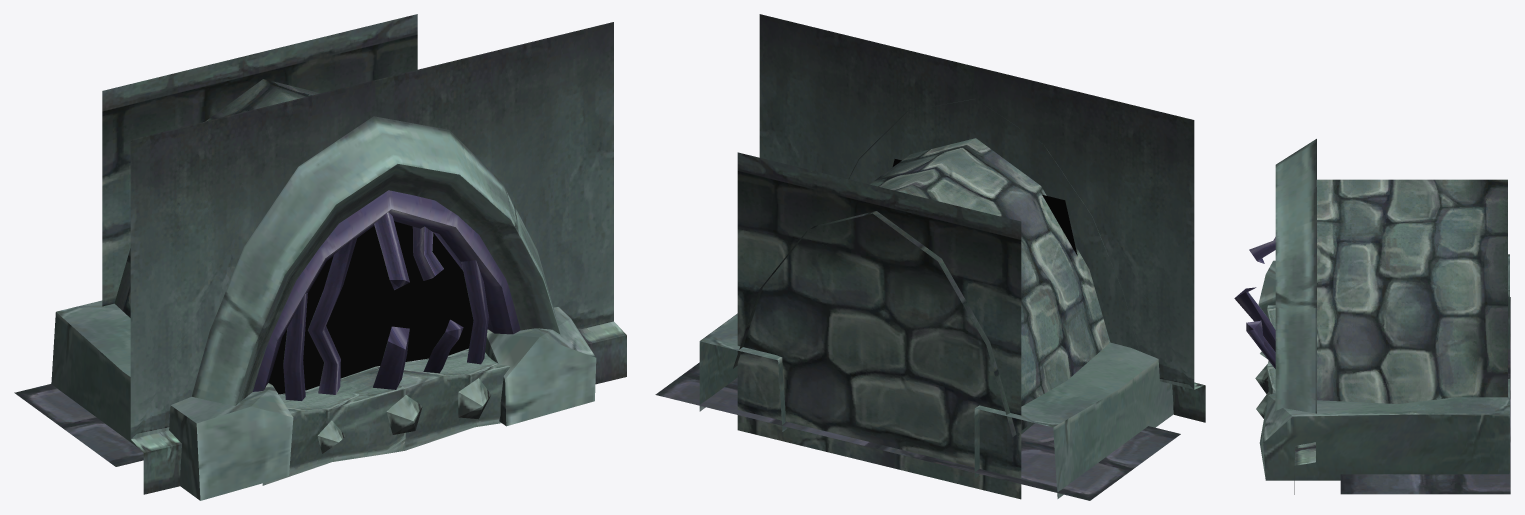
The model's file is crypt_half_straight_06.fbx.
3 renders of one model, left to right at view 1: azimuth 30°, elevation 25°; view 2: azimuth 150°, elevation 25°; view 3: azimuth 270°, elevation 25°, orthographic. The views are drawn at different scales.
Parts seen in each view (by area): view 1: crypt_half_straight_06-0; view 2: crypt_half_straight_06-0; view 3: crypt_half_straight_06-0.
Boxes of the visible parts, x1,y1,x2,y2 form: crypt_half_straight_06-0: [14, 14, 626, 500]; crypt_half_straight_06-0: [655, 14, 1205, 500]; crypt_half_straight_06-0: [1234, 139, 1510, 494].
Size of the model in its own units: 4 by 2.85 by 2.37.
